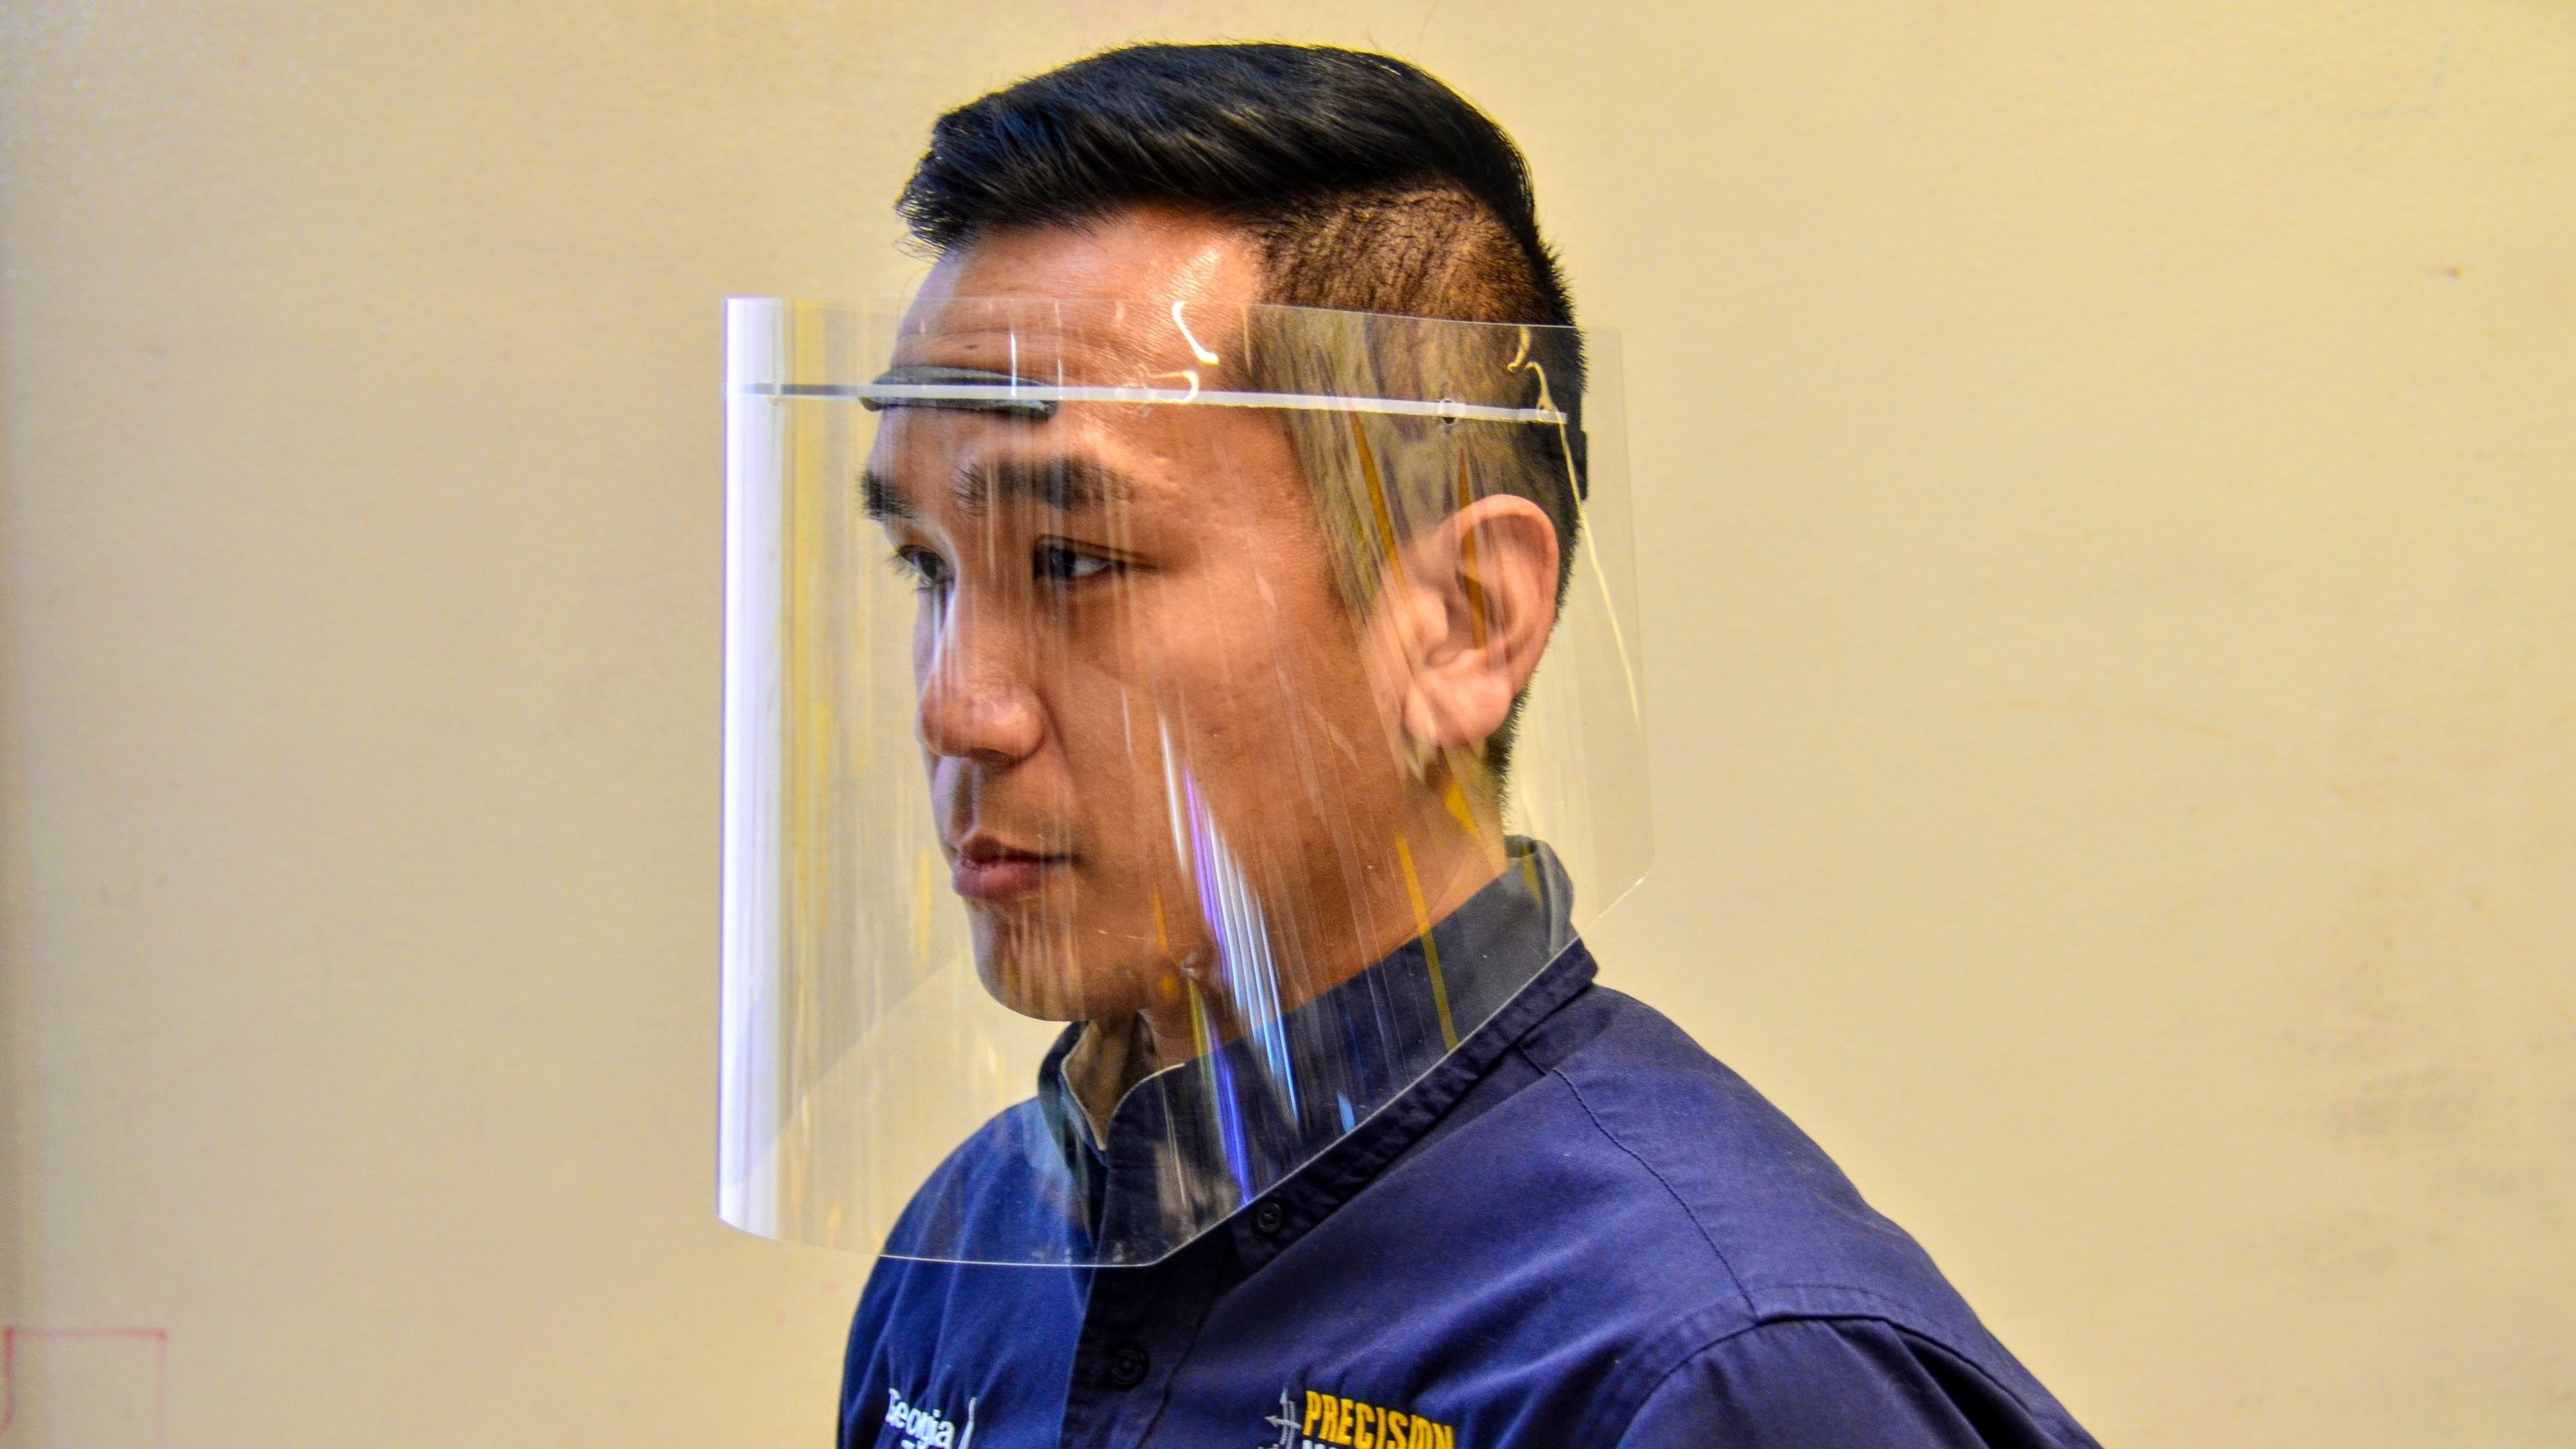face_no_mask: (854, 179, 1548, 1050)
